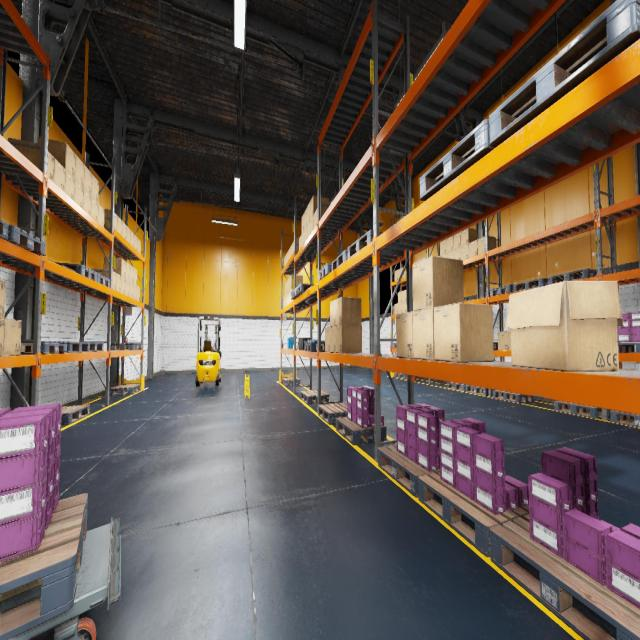box: (505, 281, 623, 371), (434, 302, 493, 362), (412, 256, 464, 310), (8, 138, 54, 182), (38, 137, 76, 178), (413, 308, 434, 360), (396, 311, 413, 359), (336, 297, 362, 325), (336, 324, 362, 352), (3, 318, 21, 356), (91, 268, 116, 290), (104, 257, 125, 278), (310, 195, 328, 219), (53, 158, 65, 192), (478, 236, 496, 254), (317, 202, 331, 224), (461, 227, 477, 246), (64, 170, 74, 200), (75, 154, 84, 187), (104, 208, 117, 230), (74, 180, 84, 208), (84, 164, 92, 196), (0, 280, 6, 318), (91, 174, 99, 202), (83, 188, 91, 214), (290, 274, 302, 290), (498, 332, 508, 350), (91, 196, 98, 221), (469, 239, 478, 258), (0, 318, 4, 355), (98, 203, 104, 227), (330, 299, 335, 327), (461, 243, 469, 260), (453, 232, 461, 249), (446, 235, 454, 252), (330, 326, 335, 352), (325, 327, 330, 352), (440, 239, 446, 255), (117, 216, 122, 235), (116, 273, 121, 292), (454, 247, 461, 260), (313, 208, 317, 228), (121, 276, 125, 295), (126, 262, 130, 281), (122, 221, 126, 239), (130, 265, 134, 283), (306, 220, 310, 238), (307, 201, 310, 224), (126, 226, 130, 243), (130, 230, 134, 247), (126, 279, 130, 296), (304, 208, 307, 230), (134, 234, 138, 250), (130, 282, 134, 298), (133, 284, 137, 300), (301, 214, 304, 234), (402, 301, 407, 313), (310, 215, 313, 234), (508, 332, 511, 350), (134, 268, 137, 285), (301, 230, 304, 247), (304, 226, 307, 242), (398, 302, 402, 314), (402, 290, 406, 302), (398, 291, 402, 303), (447, 250, 453, 258), (137, 286, 140, 301), (394, 303, 398, 314), (398, 268, 402, 279), (394, 270, 398, 281), (296, 237, 299, 251), (402, 267, 406, 277), (138, 238, 140, 254), (299, 234, 301, 250), (288, 277, 290, 292), (292, 241, 294, 254), (286, 280, 288, 293), (290, 245, 292, 257), (288, 248, 290, 260), (286, 293, 288, 305), (440, 253, 446, 257), (421, 257, 426, 260), (290, 289, 291, 303), (285, 281, 286, 295), (292, 288, 293, 301), (288, 292, 289, 304), (285, 294, 286, 306), (416, 259, 420, 262), (287, 251, 288, 262), (284, 256, 285, 267), (296, 344, 298, 349), (508, 328, 511, 331), (293, 345, 293, 348), (286, 254, 286, 264), (284, 296, 284, 308)
forklift: (196, 316, 221, 386)
pallets: (488, 0, 640, 148), (490, 514, 640, 639), (0, 493, 88, 639), (418, 472, 529, 557), (420, 119, 494, 201), (378, 444, 440, 498), (336, 416, 386, 444), (5, 224, 46, 256), (347, 230, 383, 259), (554, 401, 611, 418), (53, 262, 97, 281), (548, 268, 596, 284), (20, 341, 67, 354), (318, 403, 347, 424), (61, 405, 90, 425), (610, 410, 640, 427), (492, 390, 534, 402), (513, 278, 548, 291), (301, 390, 329, 404), (109, 384, 141, 395), (331, 250, 347, 271), (489, 284, 513, 296), (466, 385, 492, 395), (67, 342, 90, 353), (110, 343, 142, 350), (618, 343, 640, 353), (296, 283, 314, 295), (447, 382, 470, 391), (319, 263, 331, 280), (304, 342, 325, 351), (97, 274, 110, 288), (0, 219, 8, 239), (282, 377, 300, 385), (291, 289, 305, 299), (90, 342, 103, 351), (394, 372, 406, 378), (493, 344, 498, 349), (464, 298, 468, 301), (394, 344, 396, 348)
